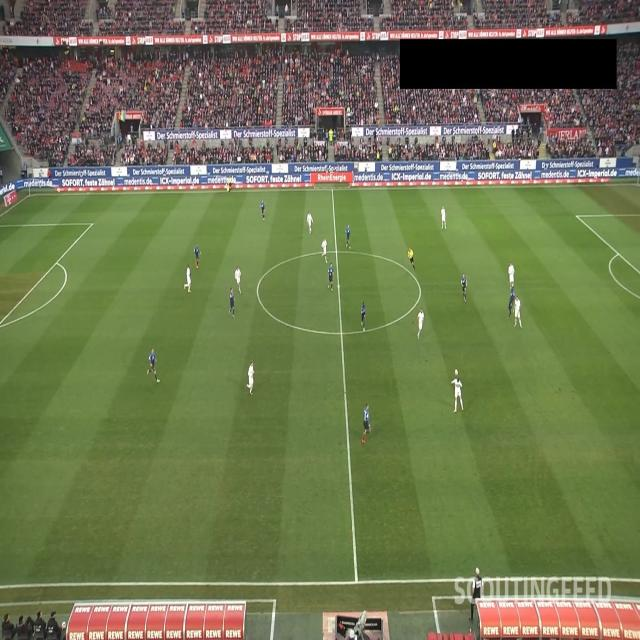ball: (454, 368, 459, 376)
